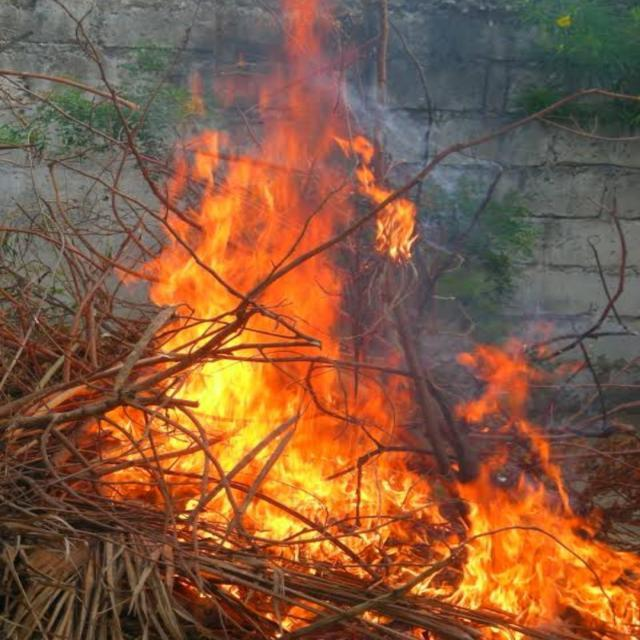Fire: (131, 84, 415, 310), (128, 314, 342, 534), (461, 474, 640, 634)
